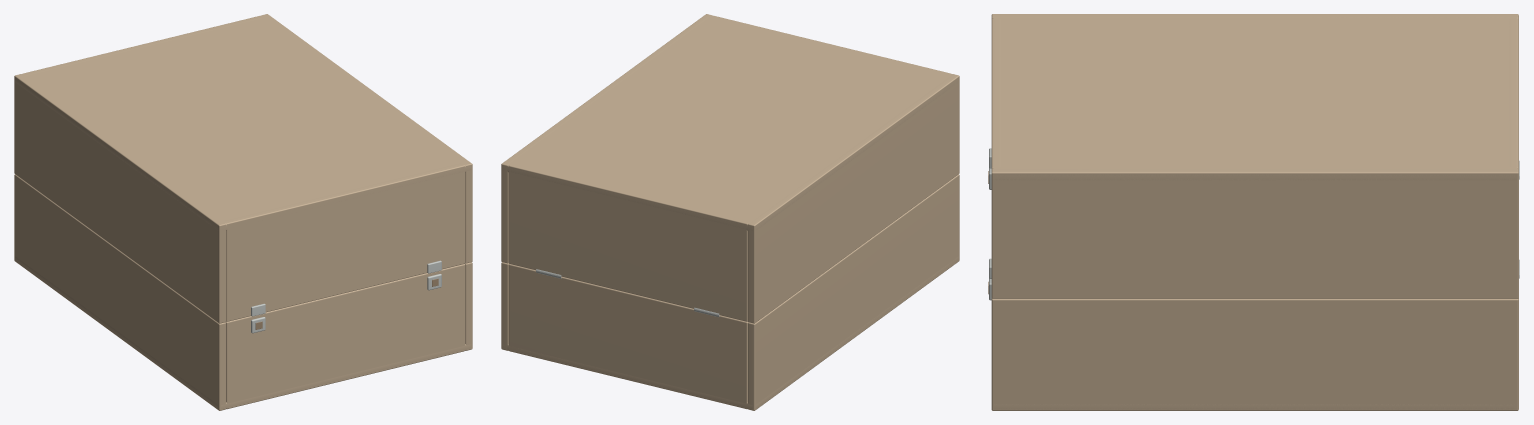
The model's file is case-model.glb.
3 views of the same model, side by side, from view 1: azimuth 30°, elevation 25°; view 2: azimuth 150°, elevation 25°; view 3: azimuth 270°, elevation 25° (orthographic). The views are drawn at different scales.
Visible parts, largest first — view 1: Lid_top, Lid_end, Lid_side, Tray_end, Tray_side, Base, Lid_side.001, Lid_end.001, Tray_side.001; view 2: Lid_top, Lid_end.001, Lid_side, Tray_end.001, Tray_side, Lid_side.001, Base, Lid_end, Tray_side.001; view 3: Lid_top, Lid_side.001, Tray_side.001, Base, Lid_side, Lid_end, Lid_end.001.
Boxes of the visible parts, bbox=[...] form: Lid_top: bbox=[15, 15, 471, 230]; Lid_end: bbox=[224, 163, 465, 321]; Lid_side: bbox=[14, 74, 226, 323]; Tray_end: bbox=[225, 264, 465, 409]; Tray_side: bbox=[14, 174, 225, 410]; Base: bbox=[15, 256, 471, 409]; Lid_side.001: bbox=[261, 14, 472, 263]; Lid_end.001: bbox=[22, 16, 262, 75]; Tray_side.001: bbox=[465, 262, 472, 350]; Lid_top: bbox=[504, 15, 957, 230]; Lid_end.001: bbox=[508, 163, 749, 321]; Lid_side: bbox=[747, 74, 959, 323]; Tray_end.001: bbox=[508, 264, 748, 409]; Tray_side: bbox=[748, 174, 959, 410]; Lid_side.001: bbox=[501, 14, 712, 263]; Base: bbox=[502, 256, 958, 409]; Lid_end: bbox=[711, 16, 951, 75]; Tray_side.001: bbox=[501, 262, 508, 350]; Lid_top: bbox=[992, 15, 1517, 180]; Lid_side.001: bbox=[991, 168, 1518, 298]; Tray_side.001: bbox=[991, 297, 1518, 410]; Base: bbox=[994, 404, 1516, 409]; Lid_side: bbox=[991, 14, 1518, 19]; Lid_end: bbox=[991, 18, 1000, 168]; Lid_end.001: bbox=[1509, 18, 1518, 168].
Size of the model in its own units: 0.2121 by 0.1501 by 0.2996.
